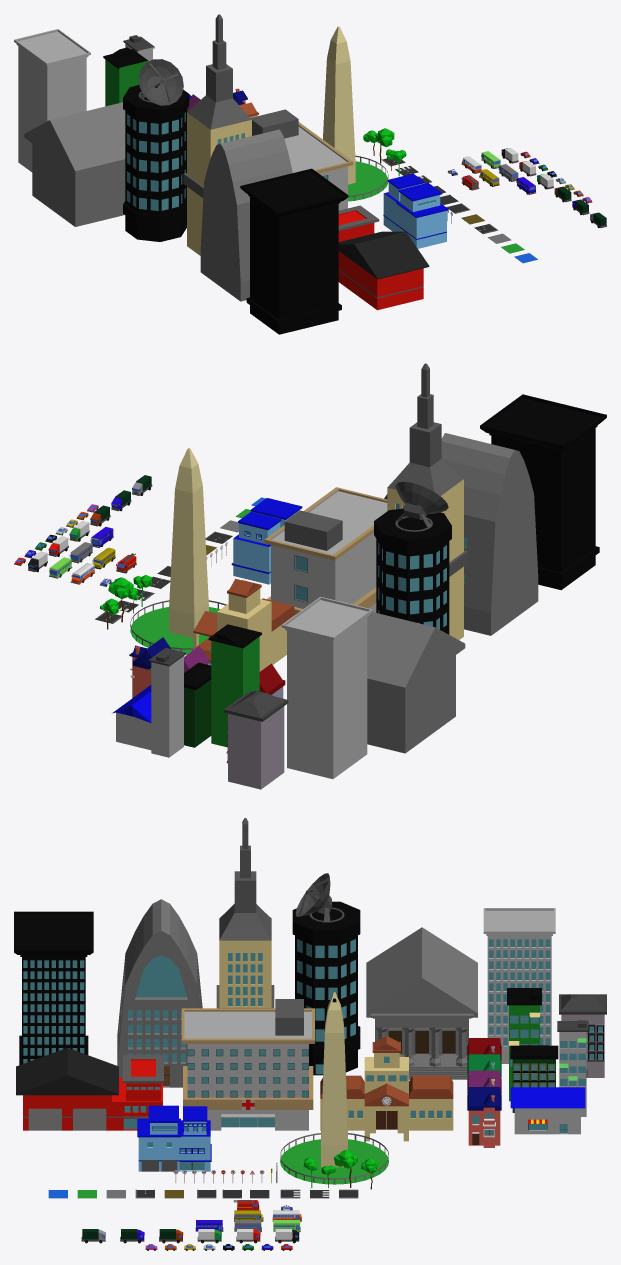
Rendered from Sketchfab_2020_11_25_12_21_25.fbx.
3 views of the same model, one above another, from view 1: azimuth 30°, elevation 25°; view 2: azimuth 150°, elevation 25°; view 3: azimuth 270°, elevation 25° (orthographic). The views are drawn at different scales.
Visible parts, largest first — view 1: Building11, Building5, Building7, Building8, FireStation, Building3, Building6, Monumentum, PoliceStation, Hospital, Building9, Building1; view 2: Building3, Building8, Building11, Hospital, Building7, Building5, Monumentum, Building6, Building10, School, Building9, Building1 (+5 smaller); view 3: Hospital, Building7, Building8, FireStation, Building11, Building5, School, Building3, Monumentum, Building6, PoliceStation, Building4 (+8 smaller).
Boxes of the visible parts, x1=… form: Building11: x1=240, y1=168, x2=348, y2=334; Building5: x1=123, y1=59, x2=189, y2=241; Building7: x1=24, y1=102, x2=125, y2=226; Building8: x1=200, y1=129, x2=292, y2=301; FireStation: x1=338, y1=205, x2=429, y2=310; Building3: x1=14, y1=29, x2=90, y2=172; Building6: x1=183, y1=14, x2=251, y2=255; Monumentum: x1=323, y1=26, x2=388, y2=201; PoliceStation: x1=383, y1=173, x2=448, y2=248; Hospital: x1=251, y1=109, x2=353, y2=210; Building9: x1=103, y1=47, x2=148, y2=106; Building1: x1=123, y1=35, x2=154, y2=61; Building3: x1=281, y1=596, x2=372, y2=778; Building8: x1=441, y1=433, x2=538, y2=635; Building11: x1=480, y1=394, x2=606, y2=590; Hospital: x1=264, y1=487, x2=387, y2=614; Building7: x1=367, y1=612, x2=465, y2=753; Building5: x1=374, y1=481, x2=451, y2=634; Monumentum: x1=130, y1=448, x2=226, y2=654; Building6: x1=387, y1=363, x2=467, y2=639; Building10: x1=224, y1=690, x2=288, y2=789; School: x1=193, y1=578, x2=295, y2=671; Building9: x1=207, y1=624, x2=261, y2=747; Building1: x1=148, y1=647, x2=186, y2=757; Hospital: x1=181, y1=999, x2=314, y2=1130; Building7: x1=366, y1=927, x2=477, y2=1079; Building8: x1=117, y1=899, x2=202, y2=1087; FireStation: x1=16, y1=1048, x2=163, y2=1130; Building11: x1=14, y1=911, x2=93, y2=1064; Building5: x1=292, y1=873, x2=360, y2=1075; School: x1=320, y1=1036, x2=453, y2=1141; Building3: x1=483, y1=908, x2=555, y2=1063; Monumentum: x1=280, y1=992, x2=388, y2=1184; Building6: x1=216, y1=818, x2=274, y2=1008; PoliceStation: x1=137, y1=1105, x2=211, y2=1171; Building4: x1=510, y1=1087, x2=585, y2=1134.
Bounding box in the file's own units: 5448 × 2936 × 6129.
